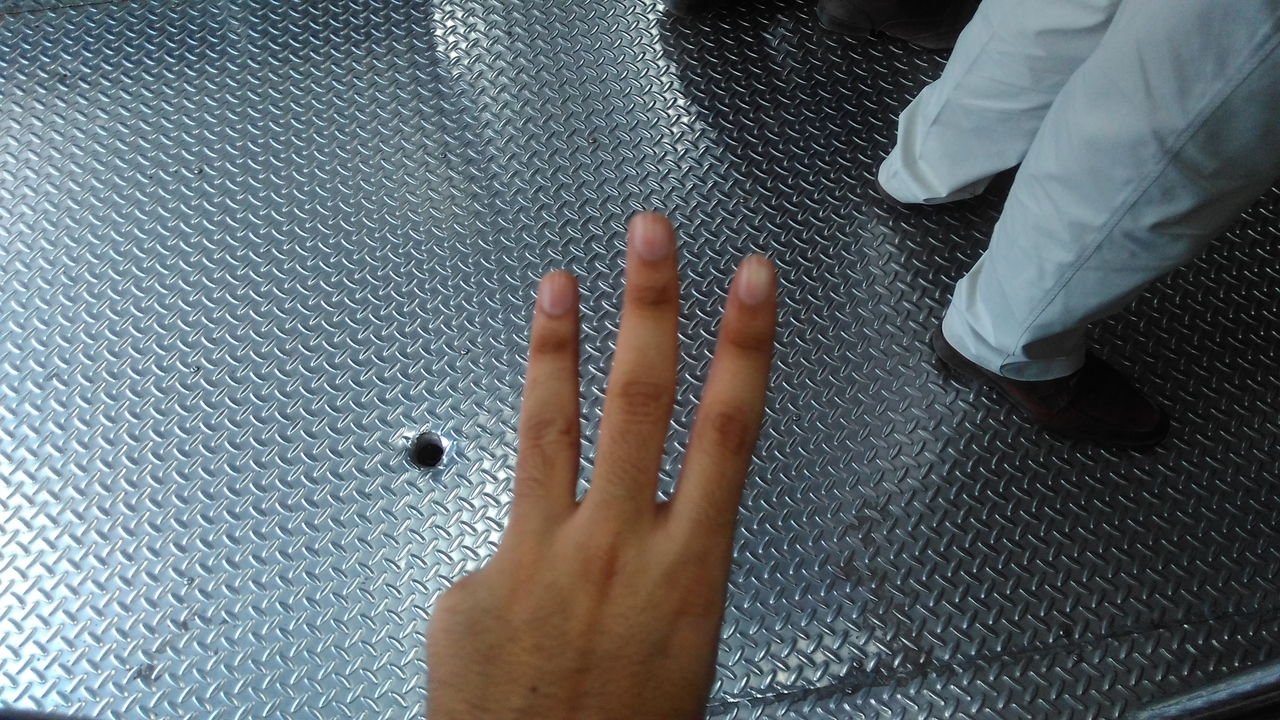fingertip: (720, 244, 786, 312), (622, 208, 684, 270), (530, 260, 588, 316)
